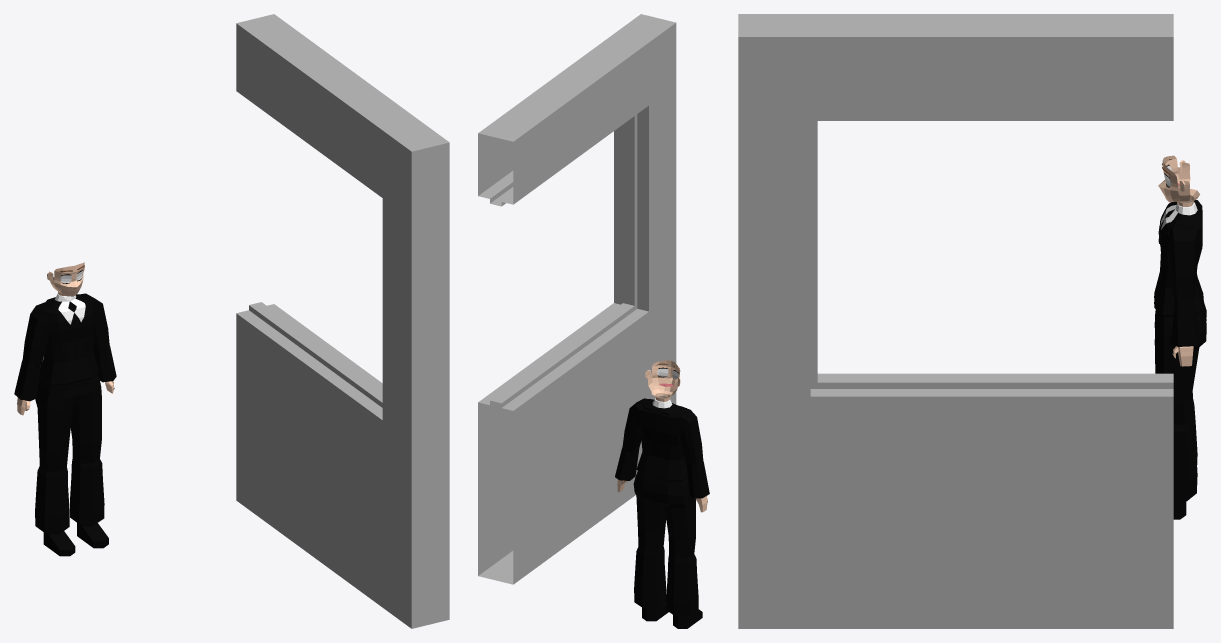
Rendered from mesh_window_large_1.fbx.
3 renders of one model, left to right at view 1: azimuth 30°, elevation 25°; view 2: azimuth 150°, elevation 25°; view 3: azimuth 270°, elevation 25°, orthographic. The views are drawn at different scales.
Parts seen in each view (by area): view 1: mesh_wall.003, Body; view 2: mesh_wall.003, Body; view 3: mesh_wall.003, Body.
Part boxes in pixels (left/top/right/bottom): mesh_wall.003: left=236, top=14, right=449, bottom=628; Body: left=14, top=262, right=116, bottom=556; mesh_wall.003: left=478, top=14, right=676, bottom=584; Body: left=615, top=360, right=709, bottom=628; mesh_wall.003: left=738, top=14, right=1173, bottom=628; Body: left=1154, top=155, right=1206, bottom=519.
Bounding box in the file's own units: 1.66 × 3 × 2.15.
Materials: 4 (1 with a texture image).
